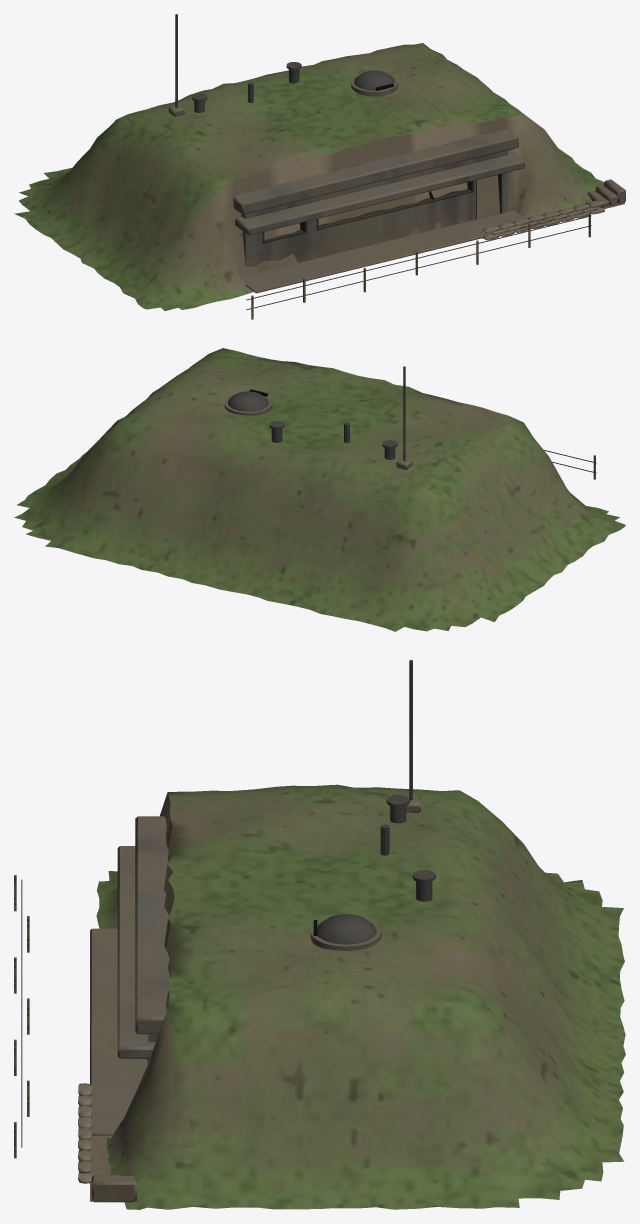
File: a02_bunker_coast.glb
3 renders of one model, top to bottom at view 1: azimuth 30°, elevation 25°; view 2: azimuth 150°, elevation 25°; view 3: azimuth 270°, elevation 25°, orthographic. The views are drawn at different scales.
Parts seen in each view (by area): view 1: body; view 2: body; view 3: body.
Boxes of the visible parts, x1,y1,x2,y2 form: body: (14,14,625,319); body: (14,348,625,631); body: (14,660,625,1209).
Bounding box in the file's own units: 1 × 0.3915 × 0.742.
Materials: 1 (1 with a texture image).
